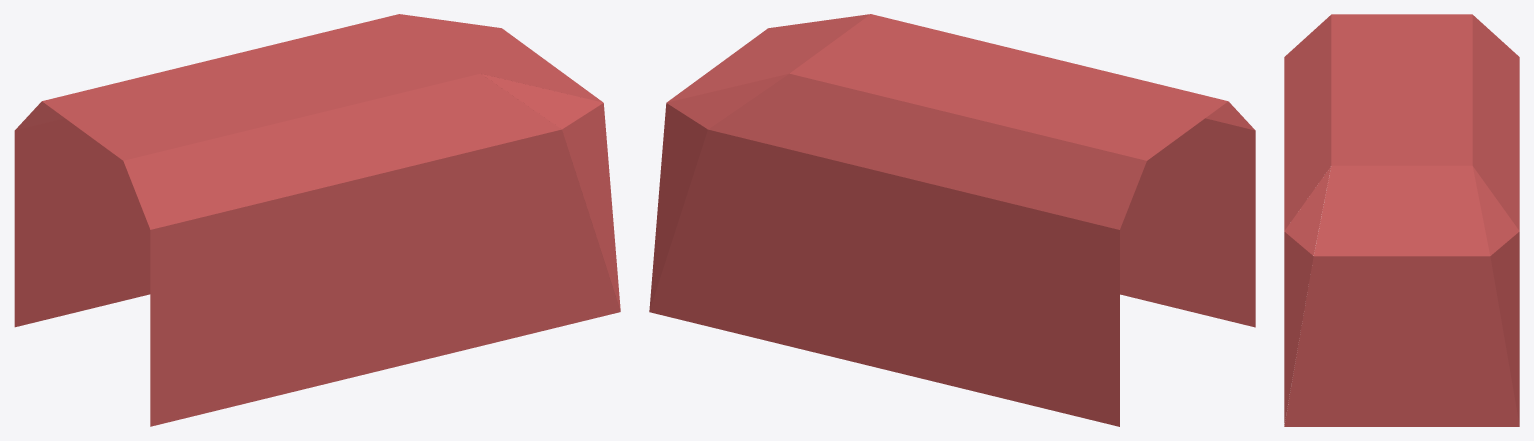
The model's file is bk_dossunbar_s.glb.
3 views of the same model, side by side, from view 1: azimuth 30°, elevation 25°; view 2: azimuth 150°, elevation 25°; view 3: azimuth 270°, elevation 25° (orthographic). The views are drawn at different scales.
Visible parts, largest first — view 1: bk_dossunbar_s_col; view 2: bk_dossunbar_s_col; view 3: bk_dossunbar_s_col.
Part boxes in pixels (bbox=[...]): bk_dossunbar_s_col: bbox=[14, 14, 620, 426]; bk_dossunbar_s_col: bbox=[649, 14, 1255, 426]; bk_dossunbar_s_col: bbox=[1284, 14, 1519, 426].
Bounding box in the file's own units: 0.5013 × 0.2502 × 0.25.
